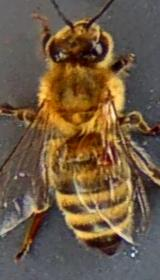varroa_mite: (89, 138, 118, 172)
